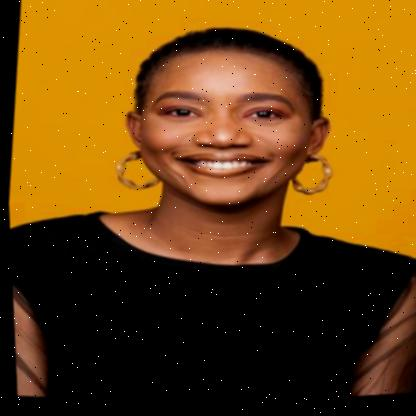person: (1, 0, 416, 416)
